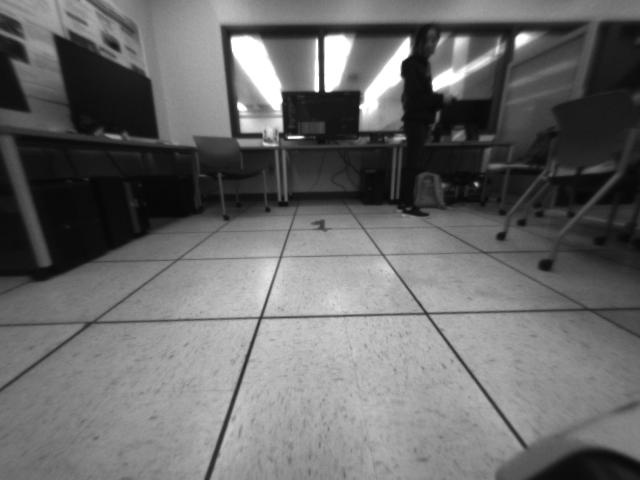X: (312, 218, 332, 233)
